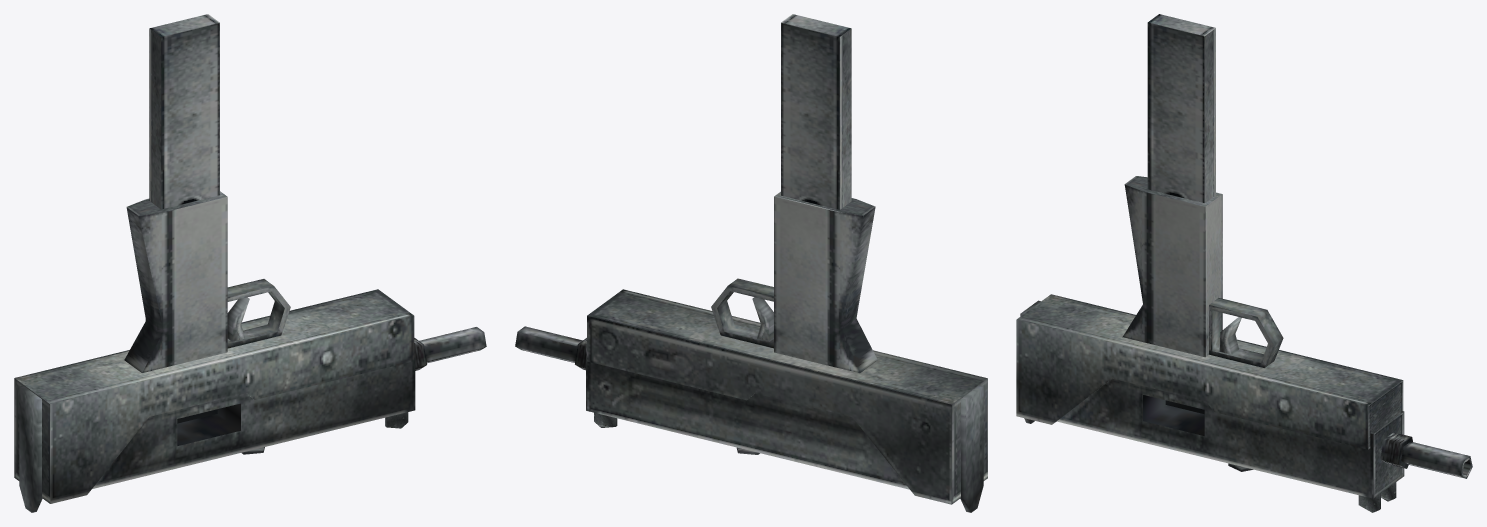
Rendered from Ingram.obj.
The picture shows the model from 3 angles, left to right: view 1: azimuth 30°, elevation 25°; view 2: azimuth 150°, elevation 25°; view 3: azimuth 330°, elevation 25°; orthographic projection. The views are drawn at different scales.
Parts seen in each view (by area): view 1: ingram.ingram.smd.mesh_0; view 2: ingram.ingram.smd.mesh_0; view 3: ingram.ingram.smd.mesh_0.
Part boxes in pixels (<box>): ingram.ingram.smd.mesh_0: <box>14,14,486,512</box>; ingram.ingram.smd.mesh_0: <box>515,14,987,512</box>; ingram.ingram.smd.mesh_0: <box>1016,14,1472,512</box>.
Bounding box in the file's own units: 16.45 × 15.53 × 2.27.
Materials: 1 (1 with a texture image).
